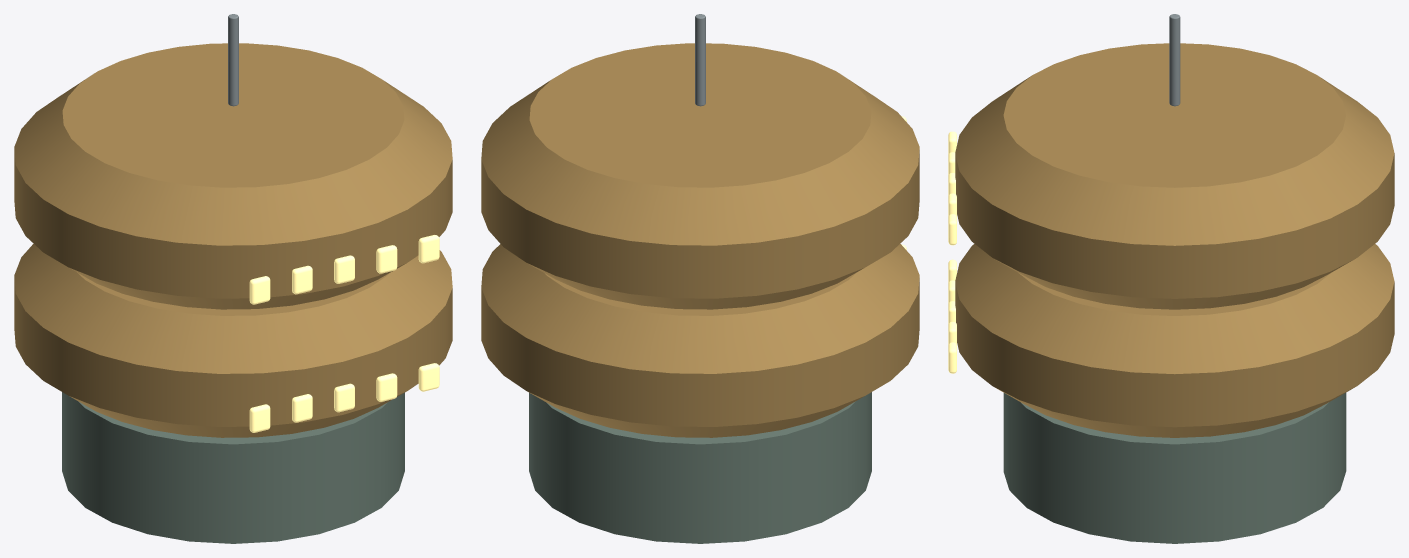
The picture shows the model from 3 angles, left to right: view 1: azimuth 30°, elevation 25°; view 2: azimuth 150°, elevation 25°; view 3: azimuth 270°, elevation 25°; orthographic projection.
Visible parts, largest first — view 1: Stacked residential saucer.001, Stacked residential saucer, Foundation drum, Aerial stem, Inset service window.003, Inset service window.004, Inset service window, Inset service window.005, Inset service window.009, Inset service window.008, Inset service window.001, Inset service window.006 (+2 smaller); view 2: Stacked residential saucer.001, Stacked residential saucer, Foundation drum, Aerial stem; view 3: Stacked residential saucer.001, Stacked residential saucer, Foundation drum, Aerial stem.
Boxes of the visible parts, box(x1,y1,x2,y2) form: Stacked residential saucer.001: box(14, 43, 452, 309); Stacked residential saucer: box(14, 243, 452, 437); Foundation drum: box(62, 392, 404, 543); Aerial stem: box(228, 14, 238, 106); Inset service window.003: box(376, 373, 397, 401); Inset service window.004: box(418, 363, 439, 391); Inset service window: box(249, 404, 270, 432); Inset service window.005: box(249, 276, 270, 304); Inset service window.009: box(418, 235, 439, 263); Inset service window.008: box(376, 245, 397, 273); Inset service window.001: box(292, 394, 312, 422); Inset service window.006: box(292, 265, 312, 294); Stacked residential saucer.001: box(481, 43, 919, 309); Stacked residential saucer: box(481, 243, 919, 437); Foundation drum: box(529, 392, 871, 543); Aerial stem: box(695, 14, 705, 106); Stacked residential saucer.001: box(955, 43, 1394, 309); Stacked residential saucer: box(955, 244, 1394, 437); Foundation drum: box(1003, 393, 1346, 543); Aerial stem: box(1169, 14, 1180, 106).
Bounding box in the file's own units: 1.8 × 2.06 × 1.83.
